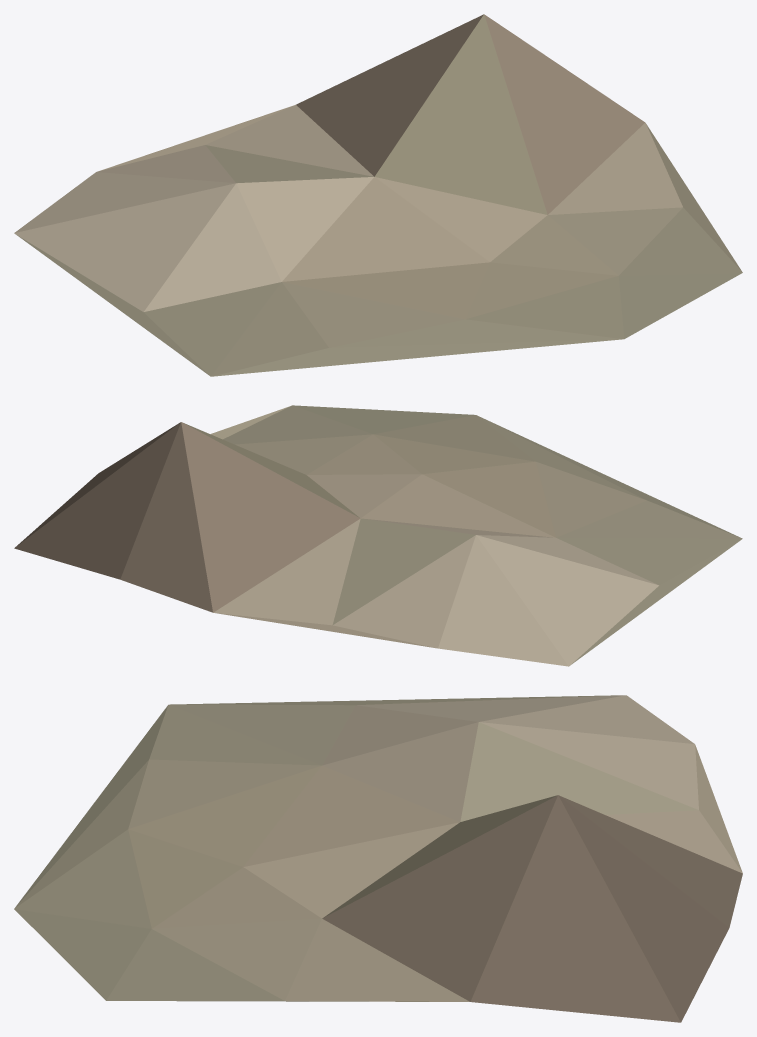
The model's file is kit_dry_b.glb.
3 renders of one model, top to bottom at view 1: azimuth 30°, elevation 25°; view 2: azimuth 150°, elevation 25°; view 3: azimuth 270°, elevation 25°, orthographic. The views are drawn at different scales.
Parts seen in each view (by area): view 1: kit_dry_b; view 2: kit_dry_b; view 3: kit_dry_b.
Part boxes in pixels (x1,y1,x2,y2): kit_dry_b: [14, 14, 742, 376]; kit_dry_b: [14, 405, 742, 666]; kit_dry_b: [14, 695, 742, 1022].
Size of the model in its own units: 29.56 by 6.84 by 27.41.
